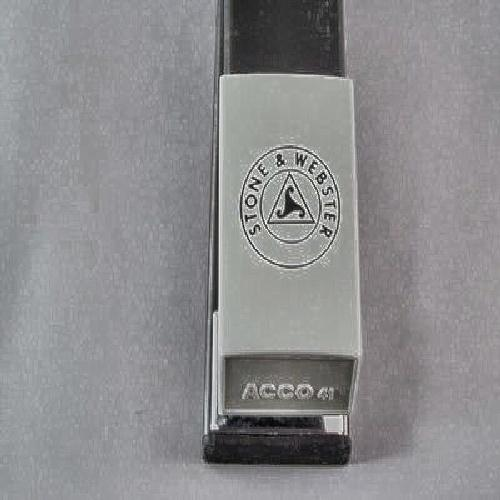stapler: (181, 17, 377, 488)
